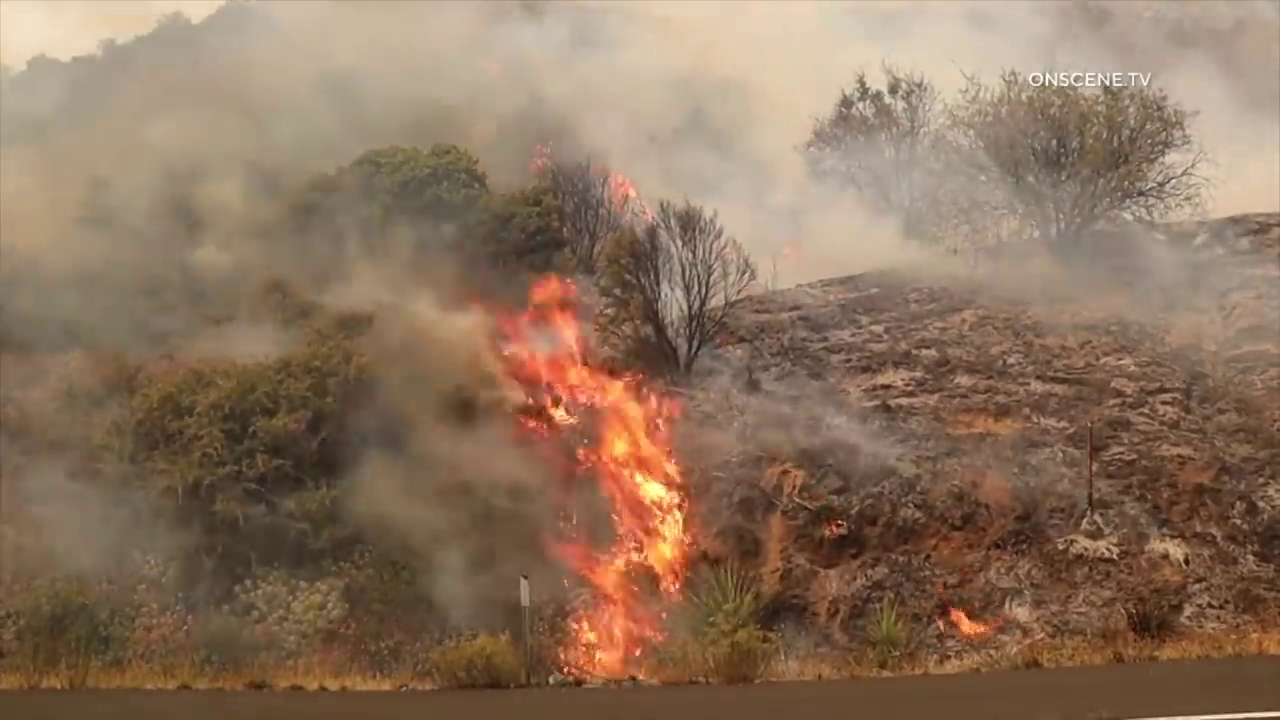forest_fire: (503, 276, 688, 677), (604, 172, 650, 228)
